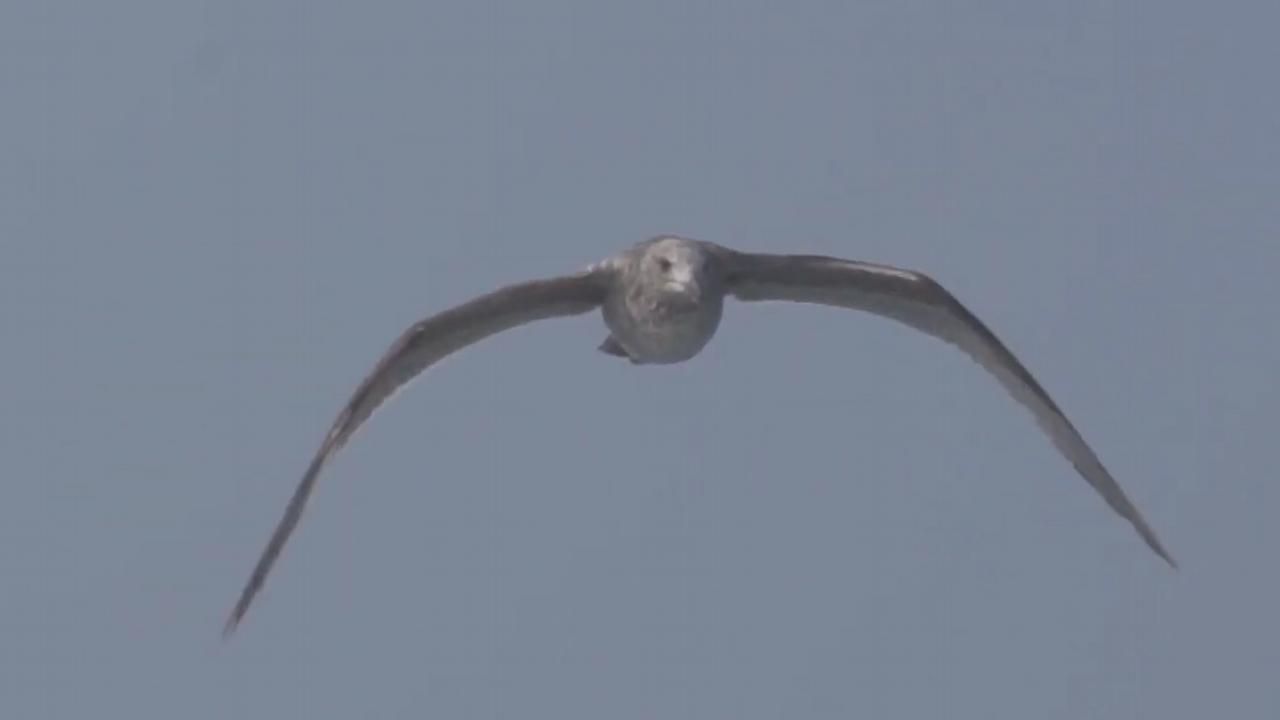Bird: (211, 230, 1189, 650)
